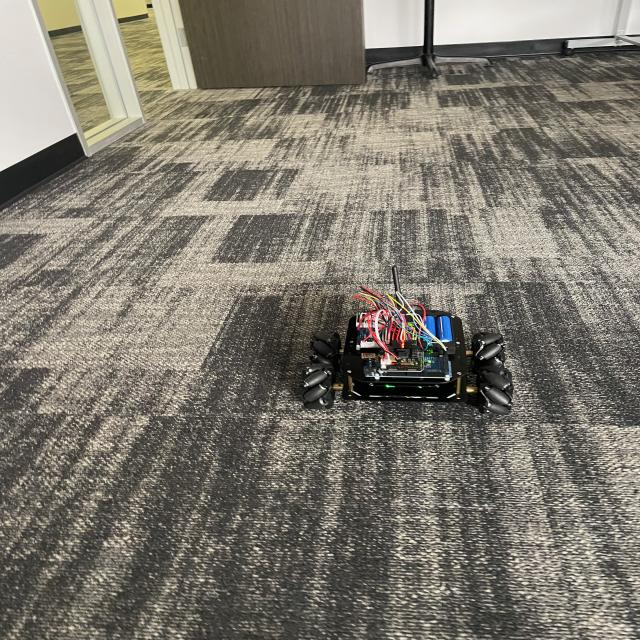ArduinoCar3: (294, 273, 517, 420)
